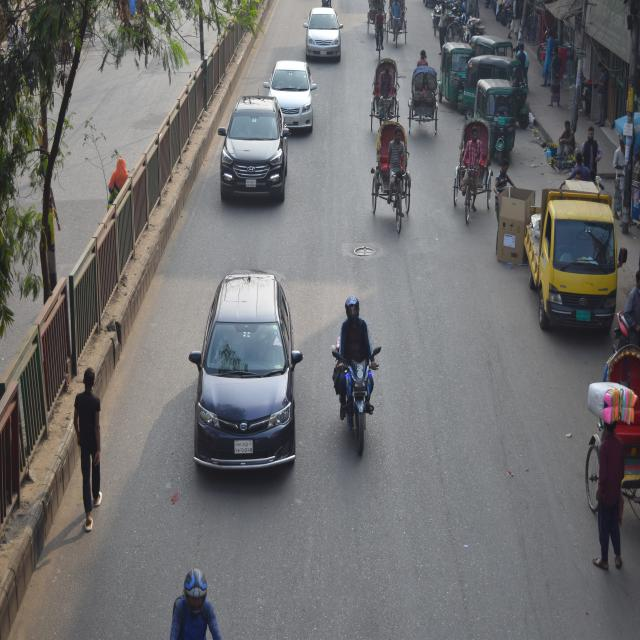car: (185, 270, 300, 477), (213, 94, 289, 209), (266, 55, 314, 135), (303, 6, 343, 66)
motorbike: (329, 315, 386, 467)
pickup-van: (512, 180, 627, 349)
